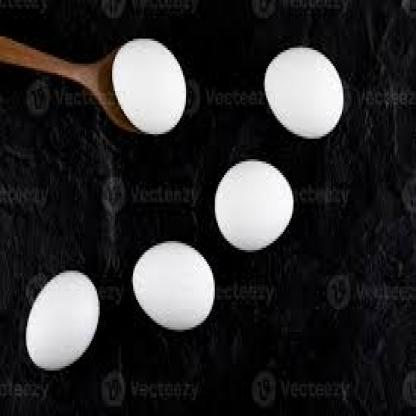egg: (262, 44, 346, 140), (24, 270, 100, 373), (215, 158, 294, 252), (113, 38, 188, 136), (134, 241, 216, 330)
